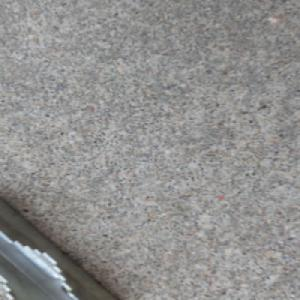ClampPart: (0, 194, 126, 300)
